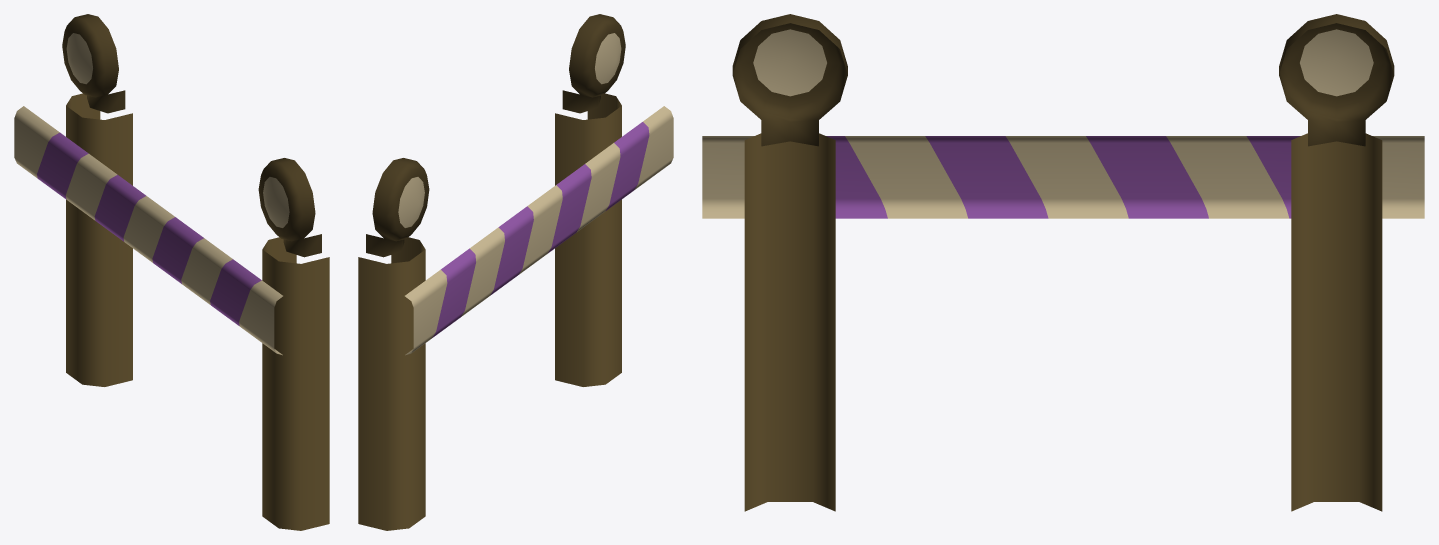
Rendered from ChocolateBarricade_high_MDL.fbx.
The picture shows the model from 3 angles, left to right: view 1: azimuth 30°, elevation 25°; view 2: azimuth 150°, elevation 25°; view 3: azimuth 270°, elevation 25°; orthographic projection. The views are drawn at different scales.
Visible parts, largest first — view 1: barricade_full_GEO; view 2: barricade_full_GEO; view 3: barricade_full_GEO.
Part boxes in pixels (x1,y1,x2,y2): barricade_full_GEO: [14, 14, 329, 530]; barricade_full_GEO: [358, 14, 673, 530]; barricade_full_GEO: [702, 14, 1424, 511].
Size of the model in its own units: 41.46 by 200 by 264.
